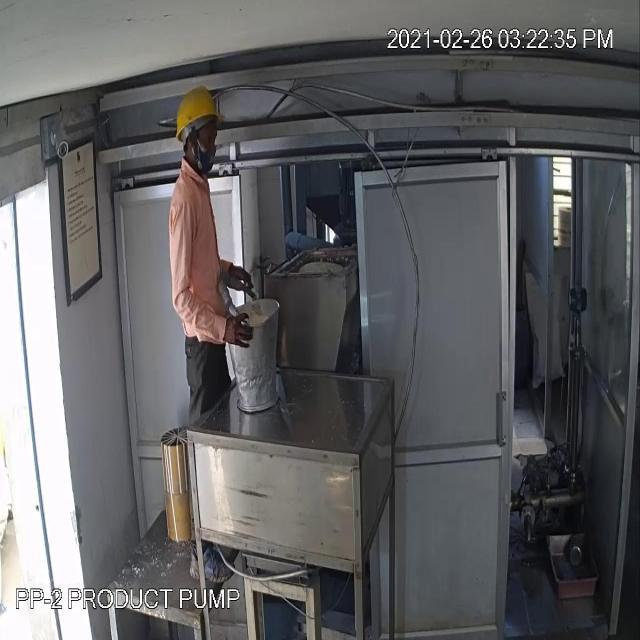helmet: (170, 82, 230, 138)
